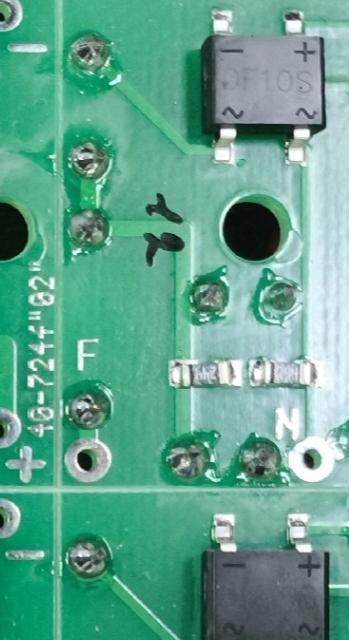chip-resistor: (247, 354, 325, 390), (167, 357, 245, 391)
ic: (198, 3, 328, 169), (200, 508, 333, 640)
